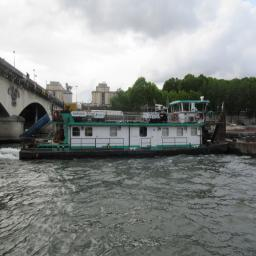tugboat: (17, 99, 237, 163)
